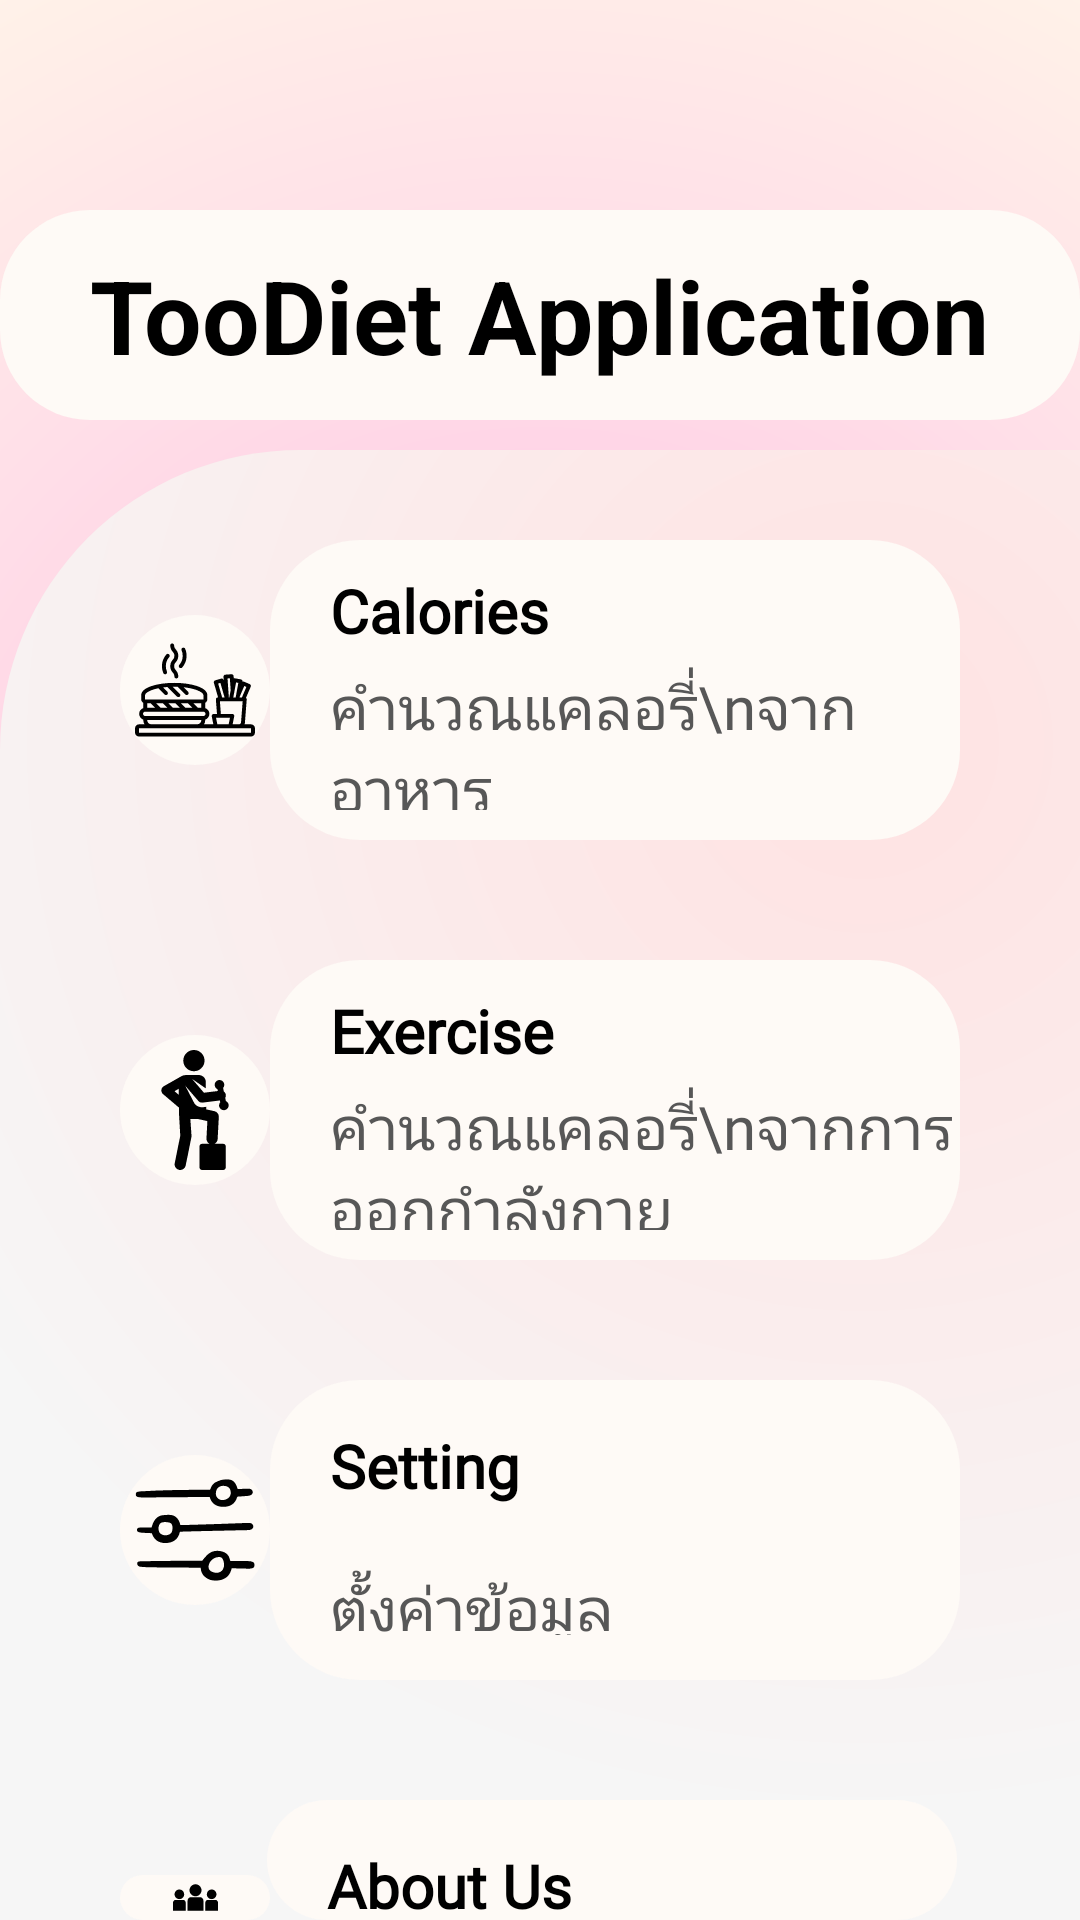

Locate icon controls on the screen. Image size 1080 x 1920, boxes as (x1=x1, y1=y1, x2=x2, y2=y2).
fast food: (x1=135, y1=643, x2=255, y2=737)
